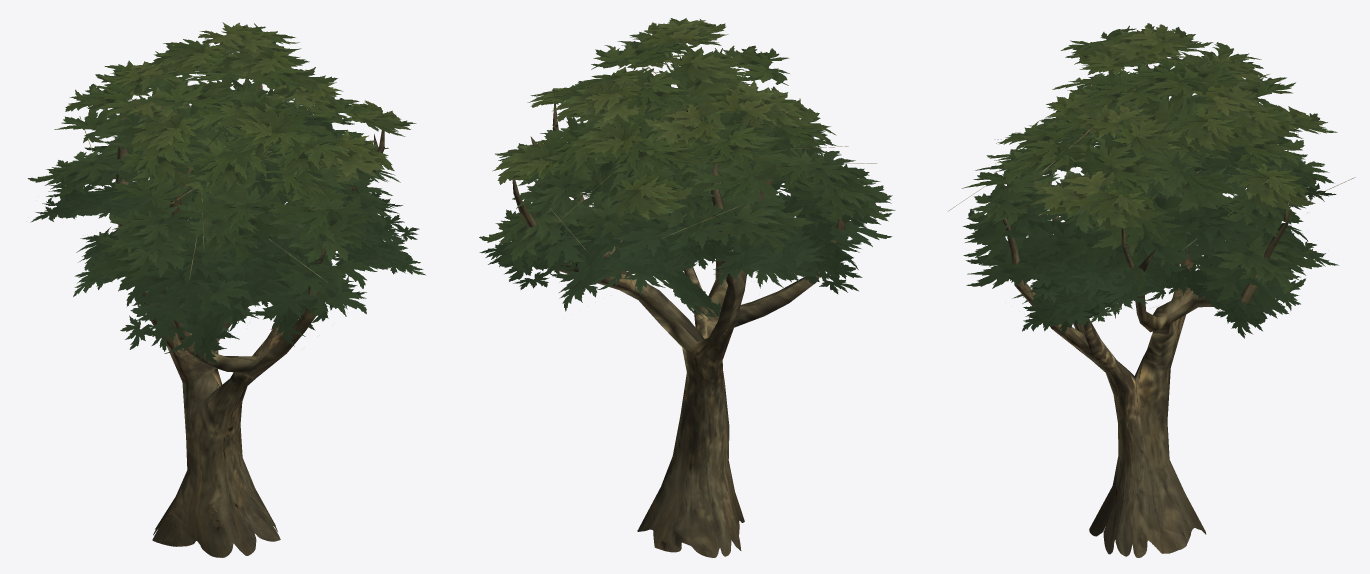
File: tree_oak_01.fbx
3 renders of one model, left to right at view 1: azimuth 30°, elevation 25°; view 2: azimuth 150°, elevation 25°; view 3: azimuth 270°, elevation 25°, orthographic.
Visible parts, largest first — view 1: tree_oak_01; view 2: tree_oak_01; view 3: tree_oak_01.
Boxes of the visible parts, bbox=[...] form: tree_oak_01: bbox=[27, 22, 425, 557]; tree_oak_01: bbox=[479, 18, 895, 557]; tree_oak_01: bbox=[948, 23, 1355, 557].
Size of the model in its own units: 22356 by 29091 by 21652.
